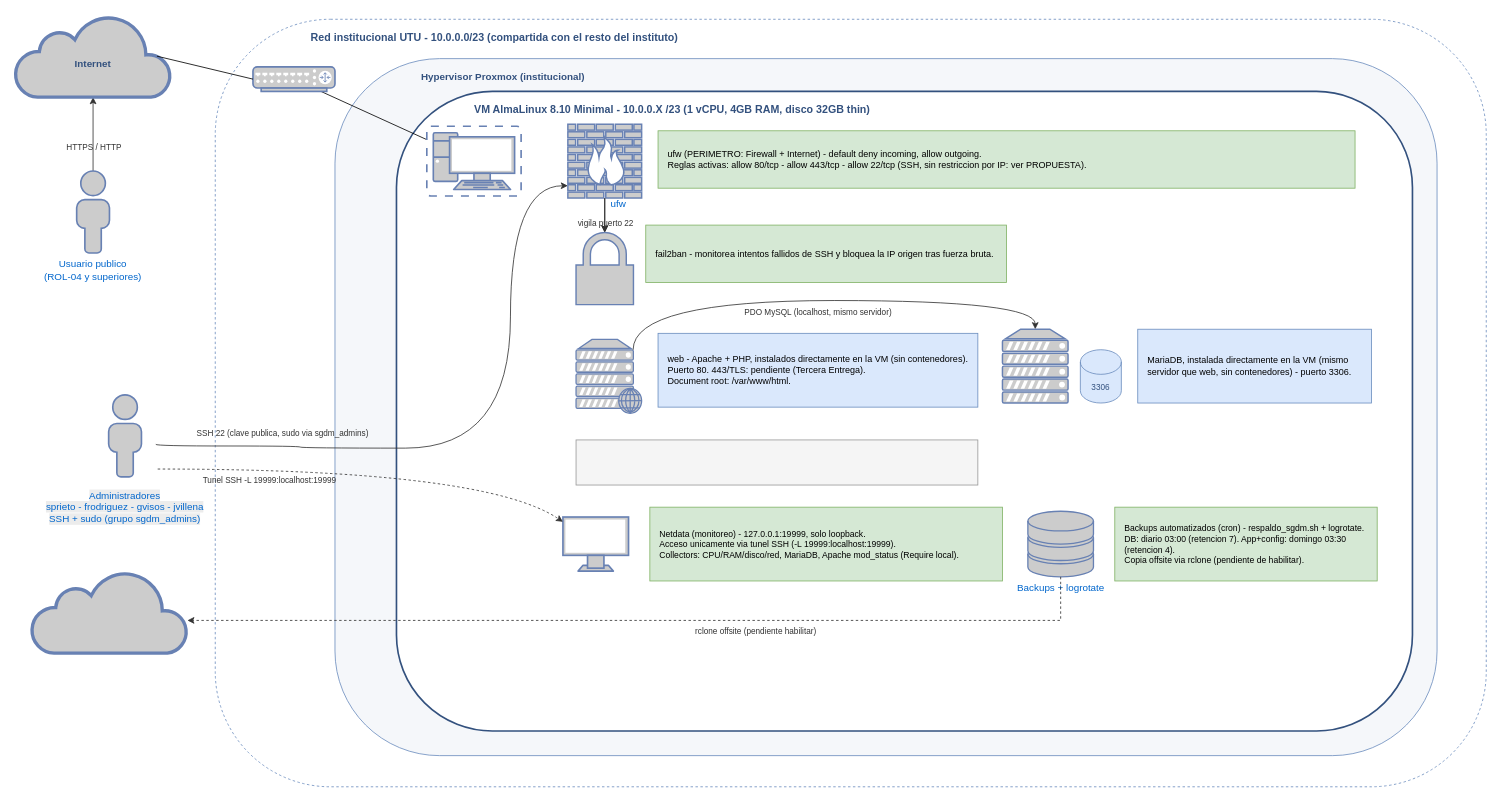
Image size: 1501x801. Some labels were removed from this diagram. The shapes that lost their labels are listed below. From the top down, each one's centre as x and y in pixels, then its label:
At point 604,268: "fail2ban".
At point 608,376: "web".
At point 1034,365: "db (MariaDB)".
At point 776,462: "svc_sgdm - cuenta de servicio sin shell (/sbin/nologin), duena de /var/www/html".
At point 595,544: "Netdata".
At point 109,612: "Google Drive (backup offsite, rclone)".
